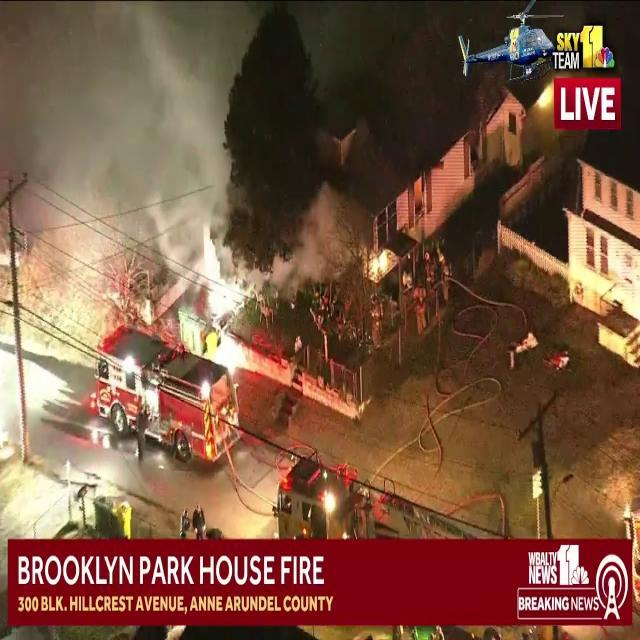Fire: (365, 238, 395, 286)
Smoke: (0, 0, 240, 275)
